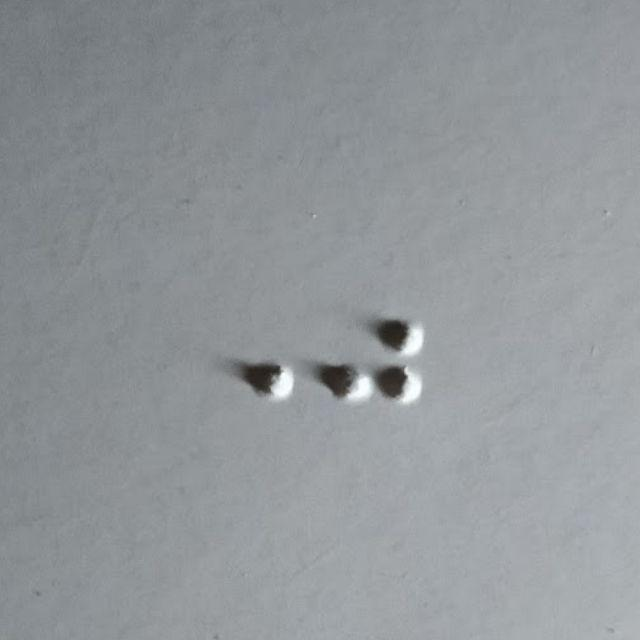dot_5: (187, 319, 292, 459)
halaman: (325, 319, 423, 459)
